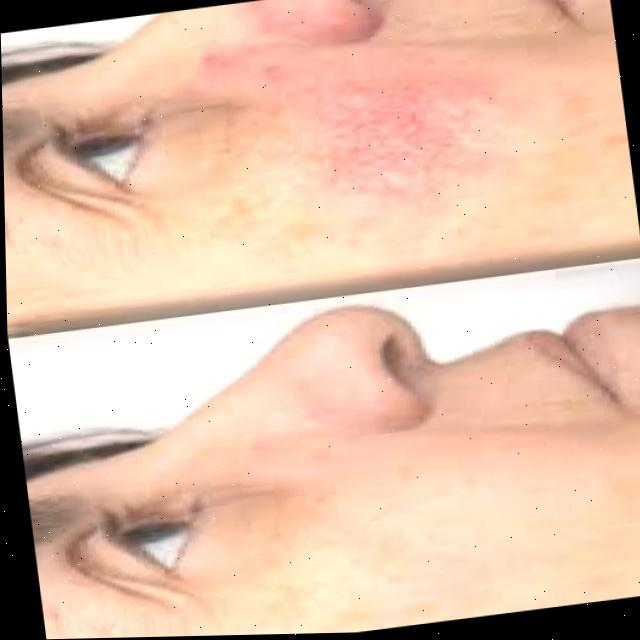Rosacea: (201, 0, 523, 216)
